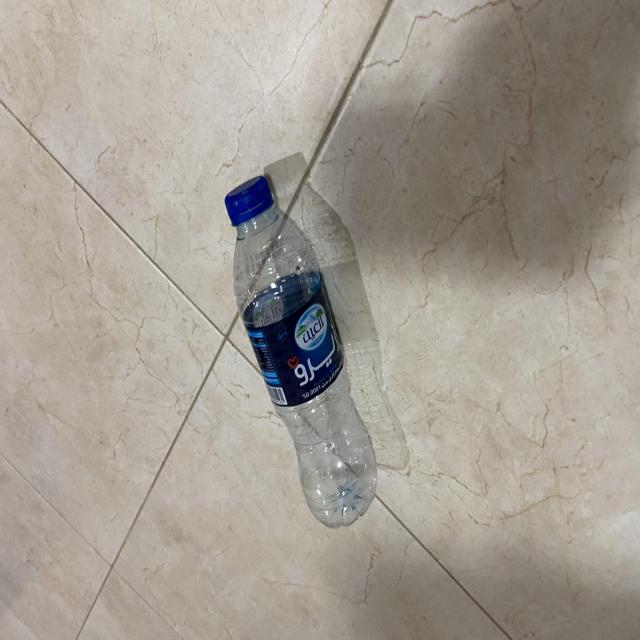plastic: (222, 170, 380, 532)
